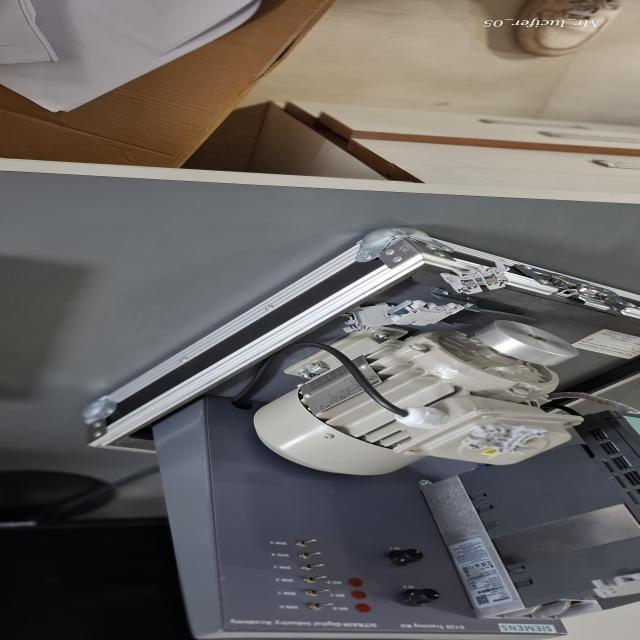Inverted: (392, 300, 464, 328), (340, 303, 401, 333)
Pass: (460, 424, 550, 456), (436, 258, 512, 295)
